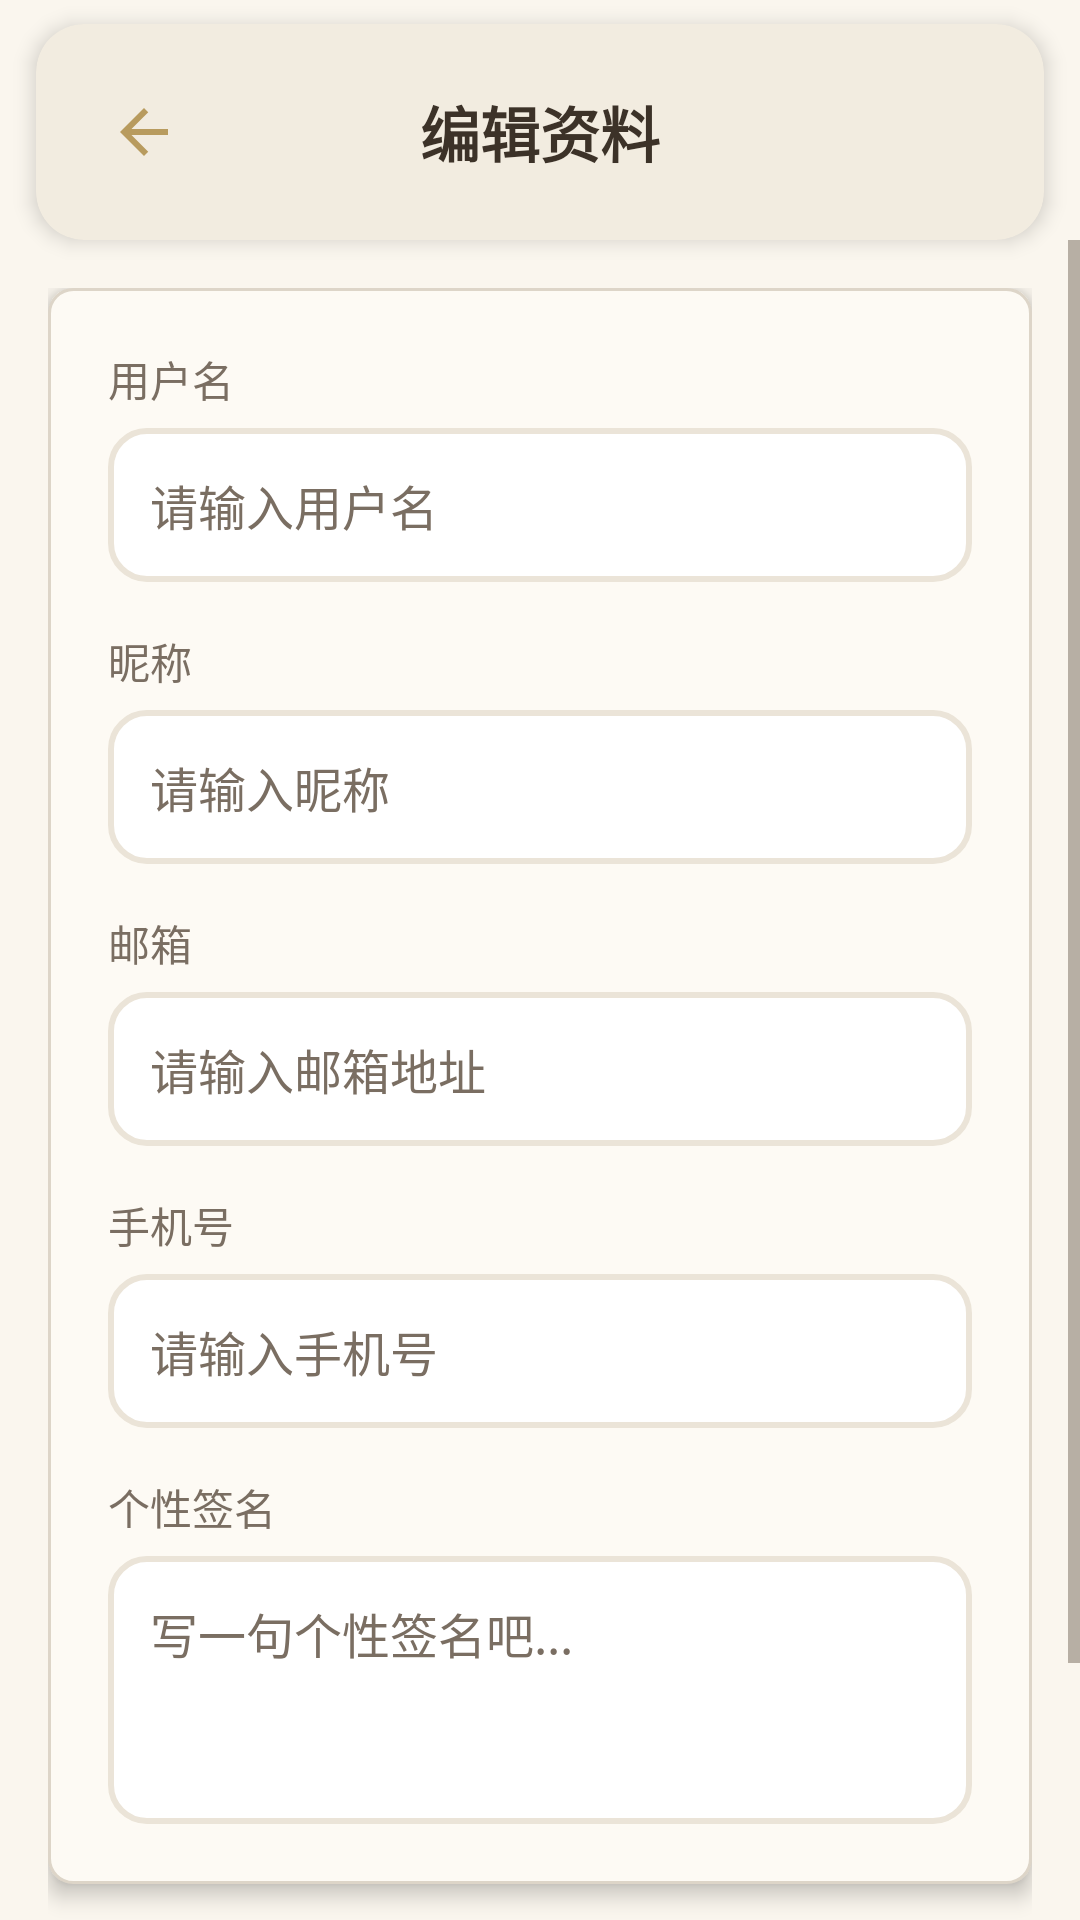

Icon bounding boxes for this 1080*1920 phone screenshot, format bbox=(x1, y1, x2, y2):
返回: bbox=(120, 108, 168, 156)
